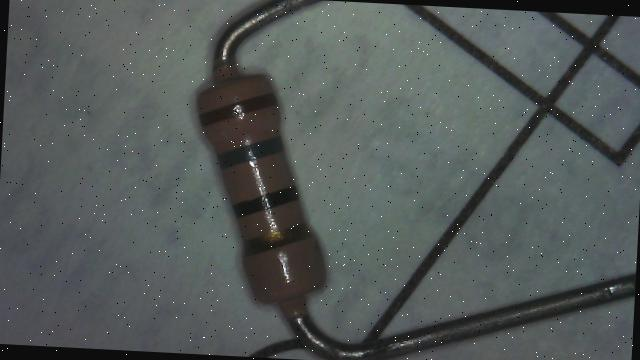black: (232, 182, 298, 221)
brown: (200, 89, 278, 130)
gold: (243, 220, 312, 259)
grey: (216, 134, 284, 172)
resistor: (158, 38, 359, 322)
